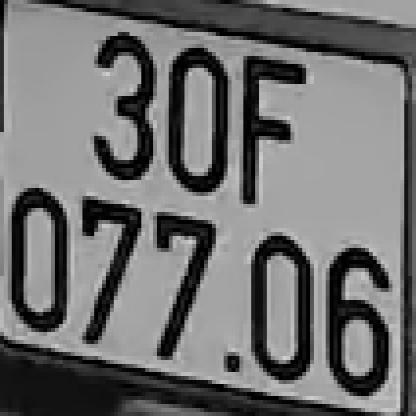0: (247, 232, 310, 380), (168, 44, 228, 196), (8, 188, 70, 328)
3: (90, 32, 153, 180)
6: (322, 240, 388, 396)
7: (153, 208, 216, 356), (82, 196, 146, 340)
F: (236, 52, 306, 204)
